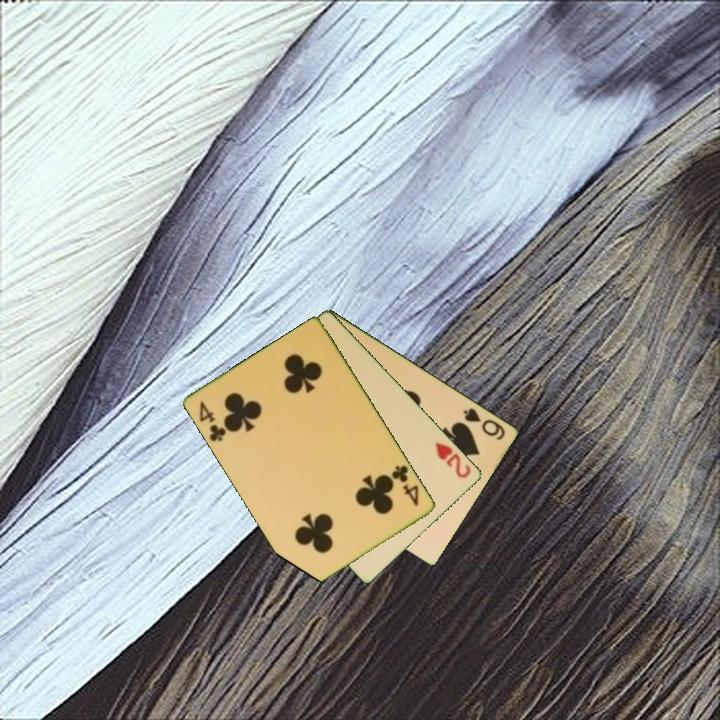2h: (432, 439, 474, 481)
4c: (388, 462, 422, 509), (196, 397, 229, 445)
6s: (460, 404, 509, 443)
